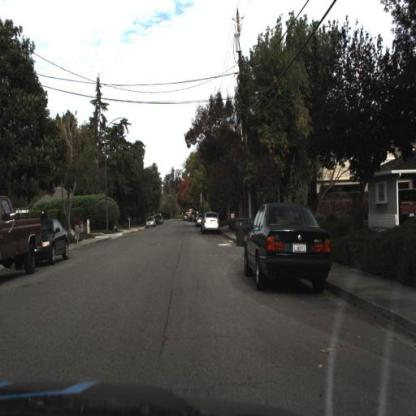car: (235, 192, 342, 304), (1, 193, 42, 281), (35, 213, 73, 273), (39, 211, 71, 266), (199, 208, 222, 238), (72, 207, 84, 252), (144, 212, 160, 232), (155, 214, 165, 232), (149, 216, 159, 230)
